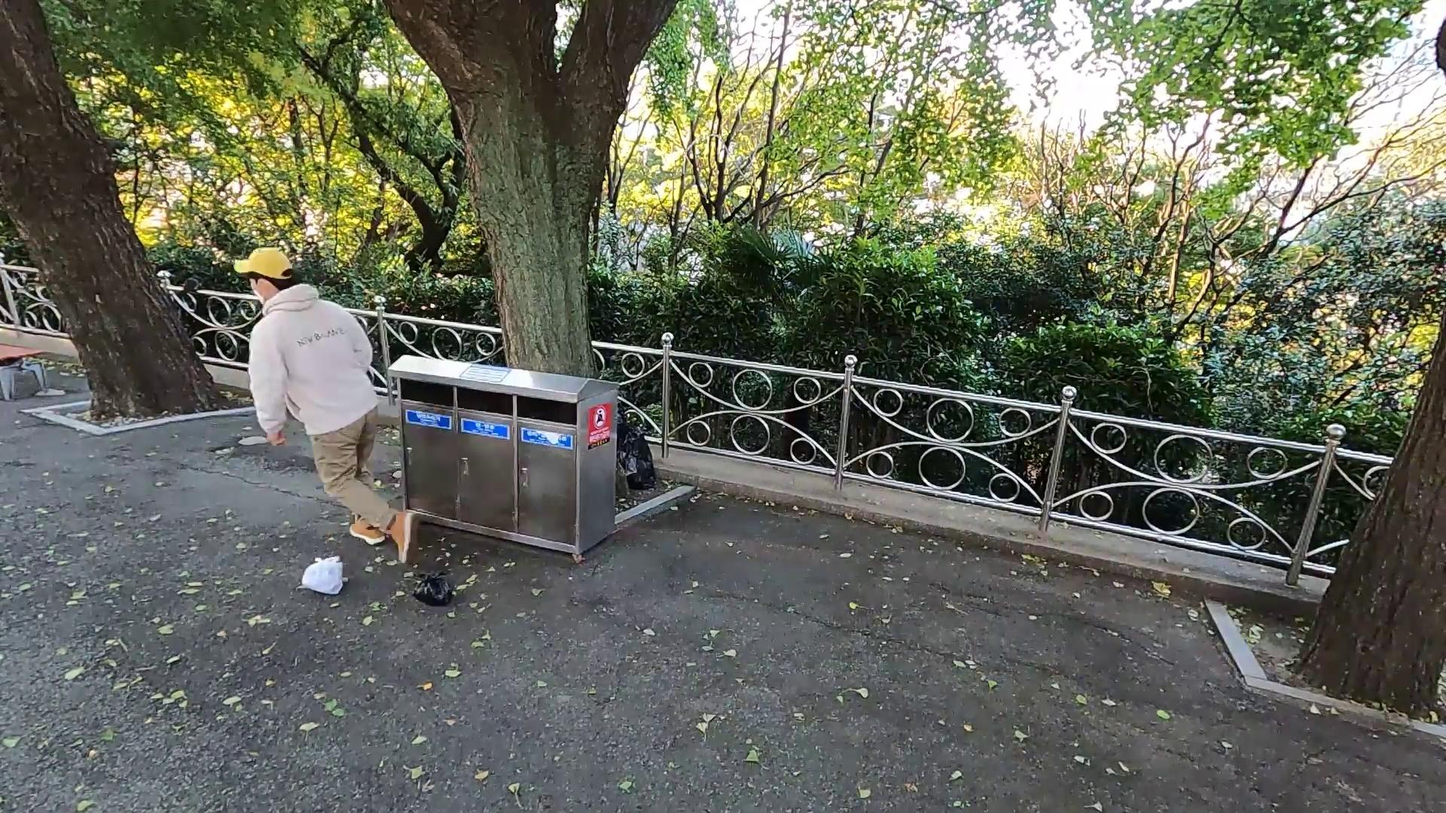person: (217, 242, 434, 564)
trash: (621, 408, 662, 499), (293, 546, 353, 605), (408, 566, 457, 604)
